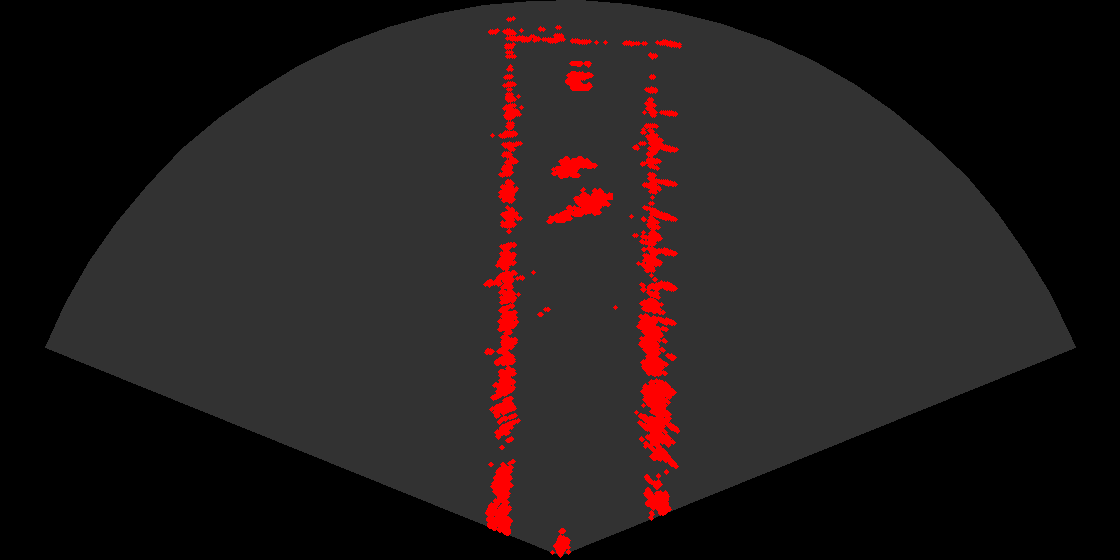AUV: (545, 154, 601, 186)
ball: (545, 53, 605, 94)
frogman: (545, 181, 613, 228)
